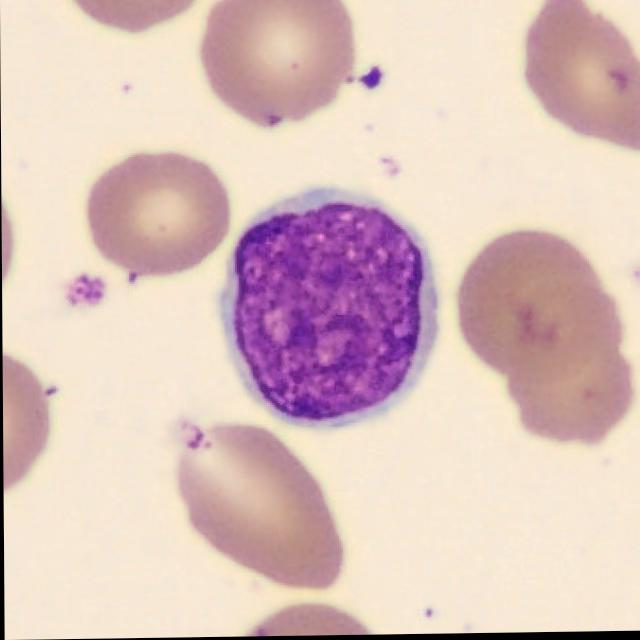Linfocito: (221, 189, 439, 428)
